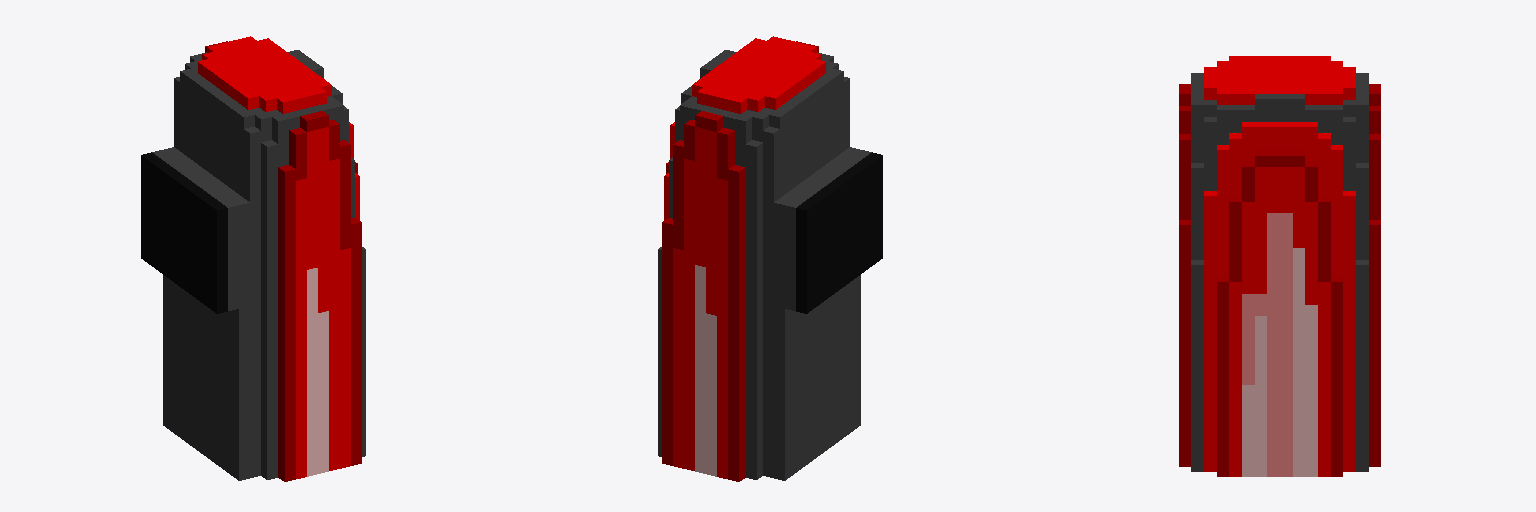
The picture shows the model from 3 angles: view 1: azimuth 30°, elevation 25°; view 2: azimuth 150°, elevation 25°; view 3: azimuth 270°, elevation 25°; orthographic projection.
Visible parts, largest first — view 1: object 1; view 2: object 1; view 3: object 1.
Part boxes in pixels (left/top/right/bottom): object 1: left=141, top=36, right=365, bottom=481; object 1: left=658, top=36, right=882, bottom=481; object 1: left=1179, top=56, right=1380, bottom=476.
Bounding box in the file's own units: 1.4 × 3.2 × 1.6.
Materials: 1 (1 with a texture image).